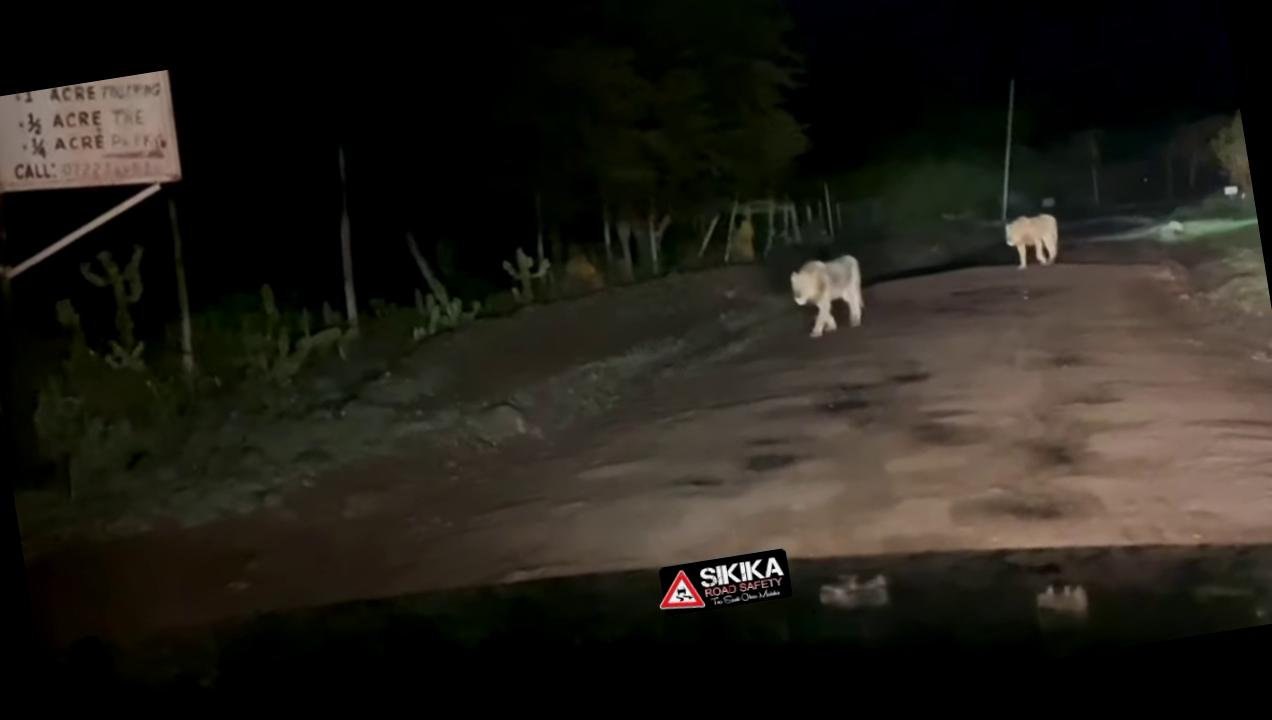lions: (771, 238, 893, 354), (990, 180, 1080, 309)
